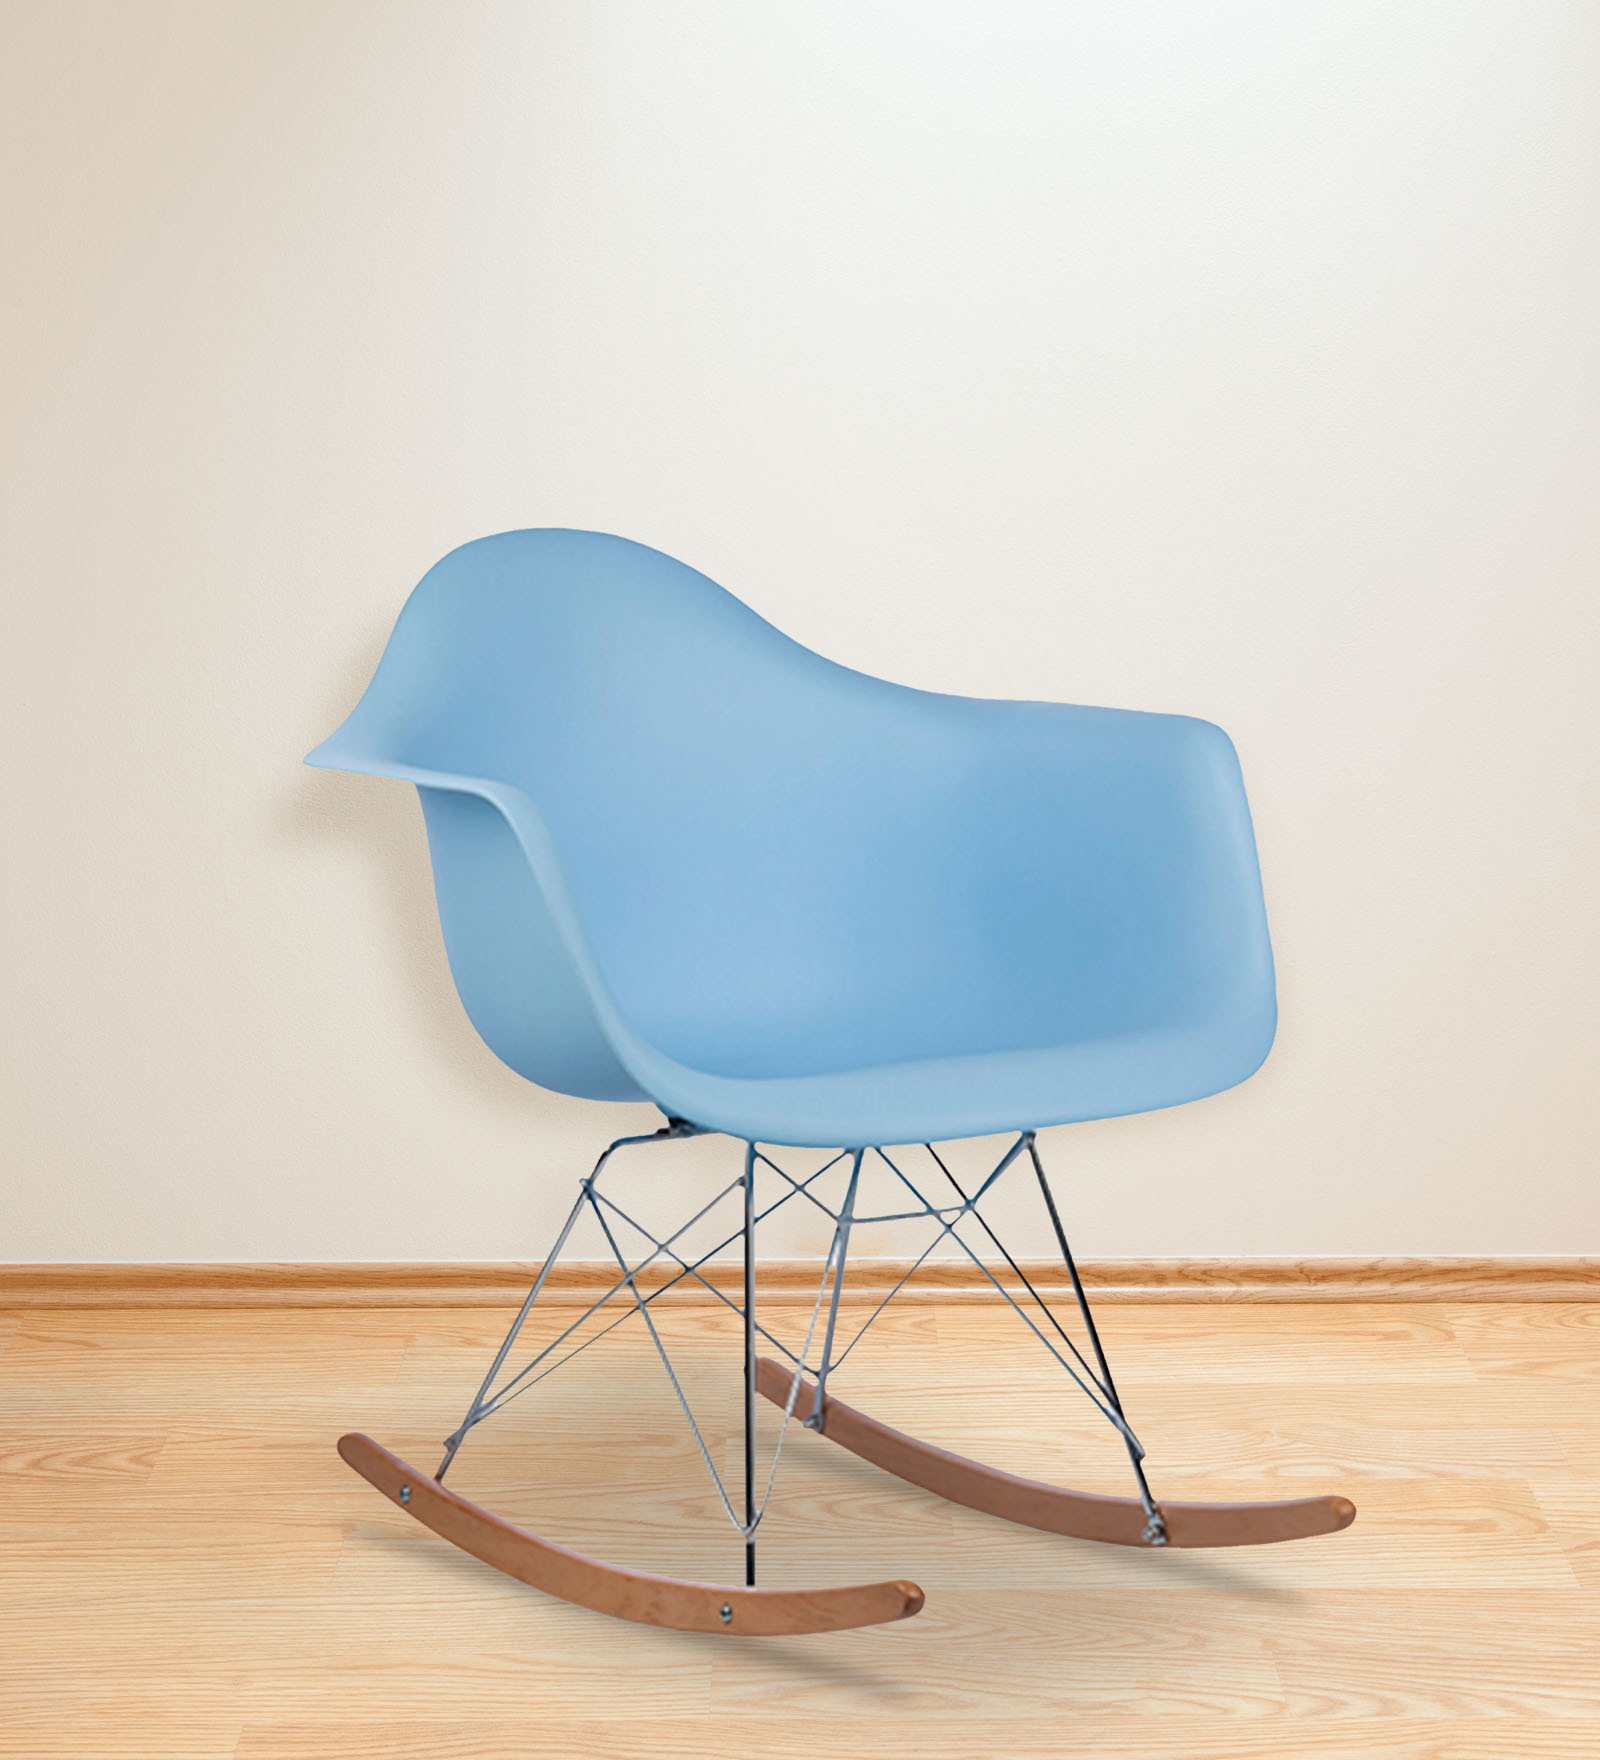Daytona Beach Club Rocking Chair in Robin Blue Colour by HomeHQ: (248, 469, 1401, 1685)
